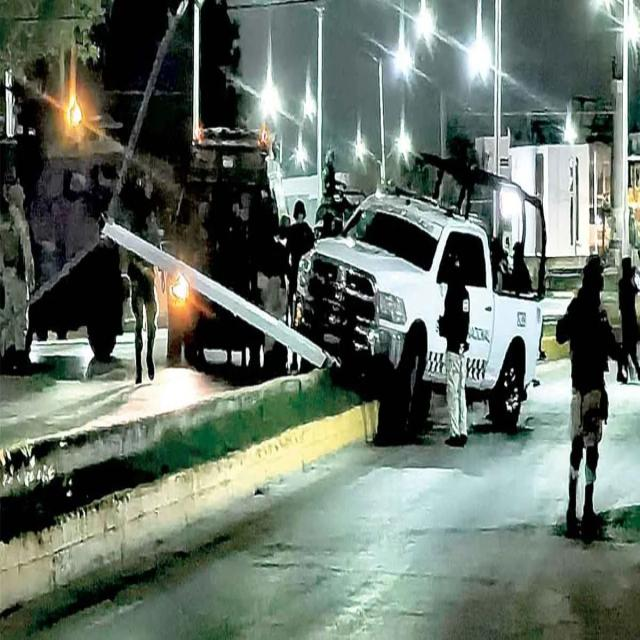Inclined Pole: (0, 0, 323, 370)
